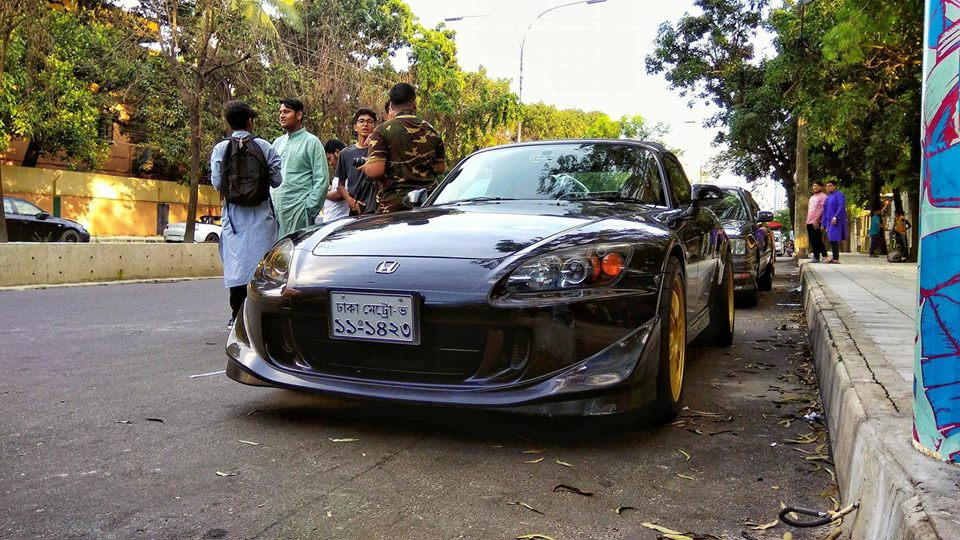registration_plate: (329, 290, 416, 345)
